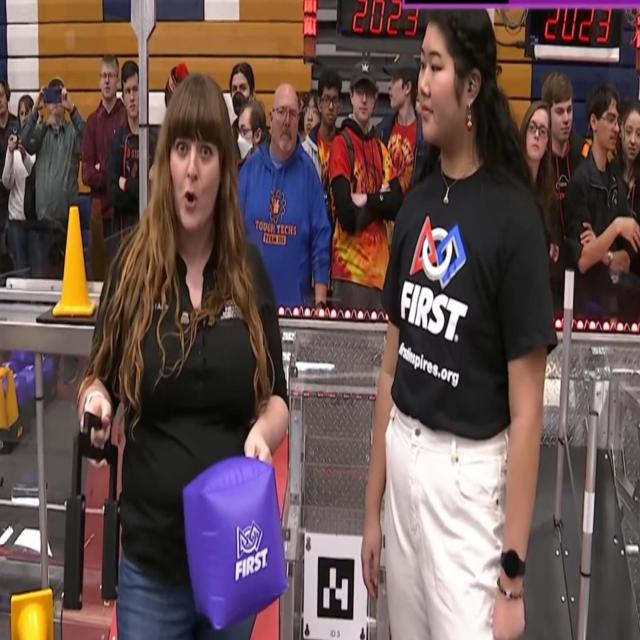frc_cone: (53, 205, 94, 317), (9, 583, 54, 640), (3, 371, 24, 434), (0, 378, 10, 448)
frc_cube: (184, 454, 286, 630), (24, 363, 44, 391), (12, 373, 25, 405), (42, 360, 57, 381), (19, 349, 32, 367)
